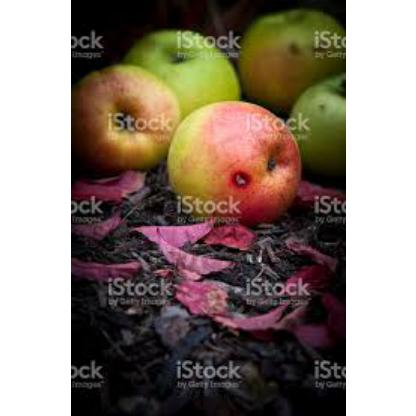damaged_apple: (172, 100, 300, 216), (73, 70, 181, 164)
